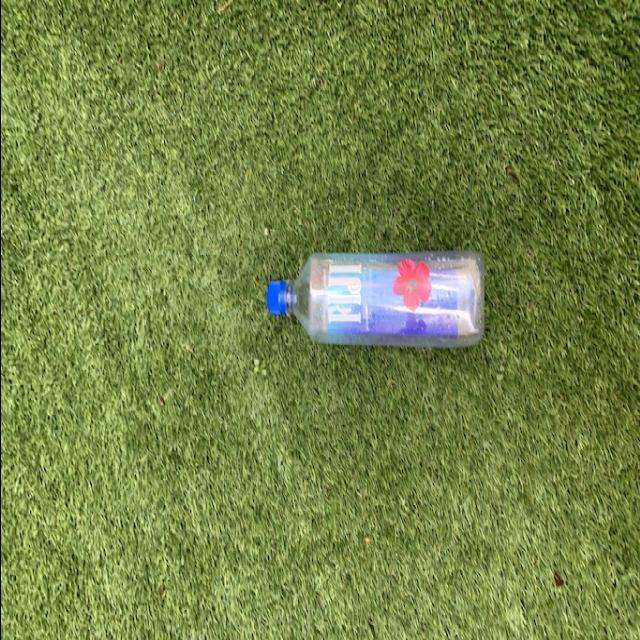PET: (268, 250, 484, 348)
